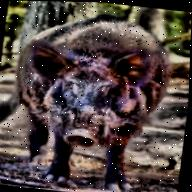boar: (0, 7, 176, 192)
